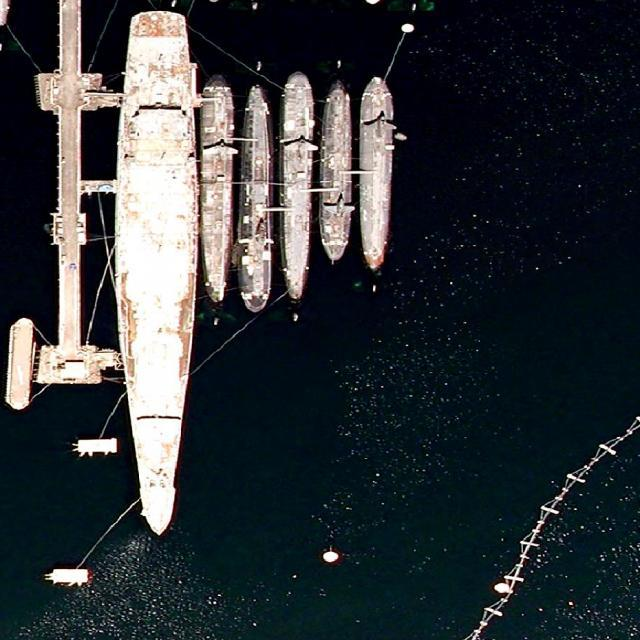Dock: (59, 5, 79, 348)
Other Warship: (116, 12, 196, 542)
Submarine: (198, 71, 233, 303), (239, 85, 274, 317), (280, 68, 315, 300), (359, 74, 394, 270), (319, 75, 355, 261)
